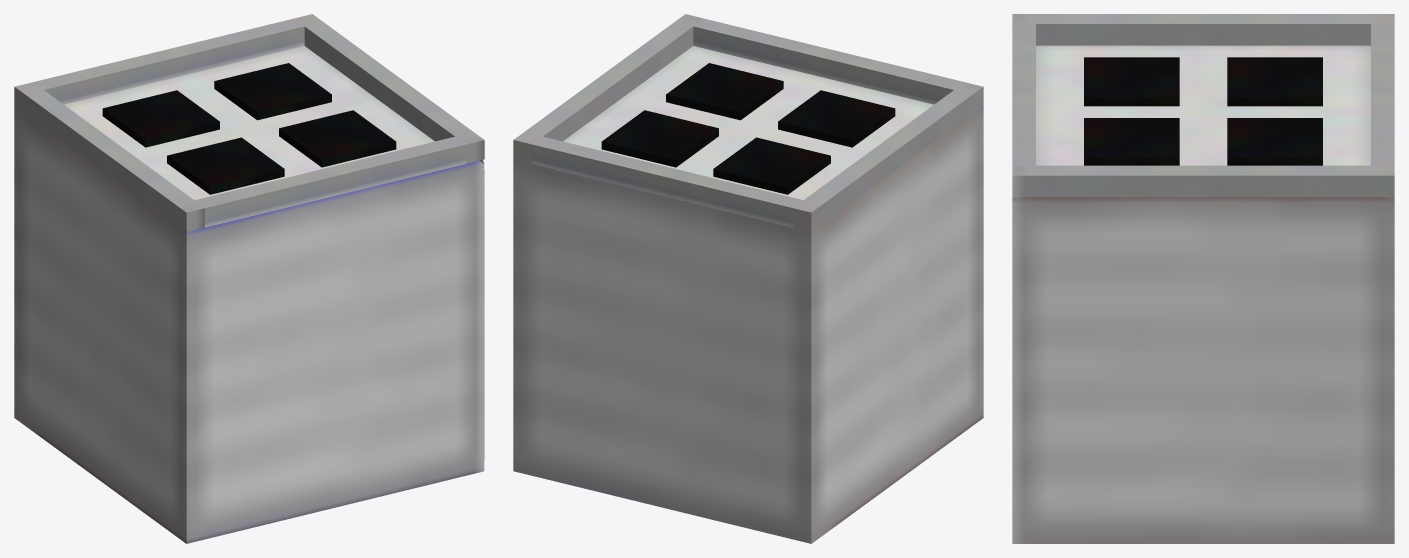
File: heater.obj
3 views of the same model, side by side, from view 1: azimuth 30°, elevation 25°; view 2: azimuth 150°, elevation 25°; view 3: azimuth 270°, elevation 25° (orthographic). The views are drawn at different scales.
Visible parts, largest first — view 1: g0; view 2: g0; view 3: g0.
Part boxes in pixels (x1,y1,x2,y2): g0: (14,14,484,543); g0: (513,14,983,543); g0: (1012,14,1394,543).
Bounding box in the file's own units: 0.9118 × 0.9688 × 0.9118.
